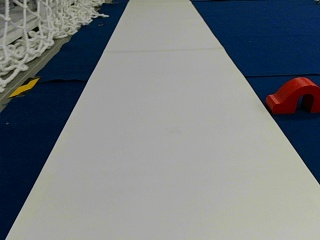bridge: (268, 78, 319, 112)
